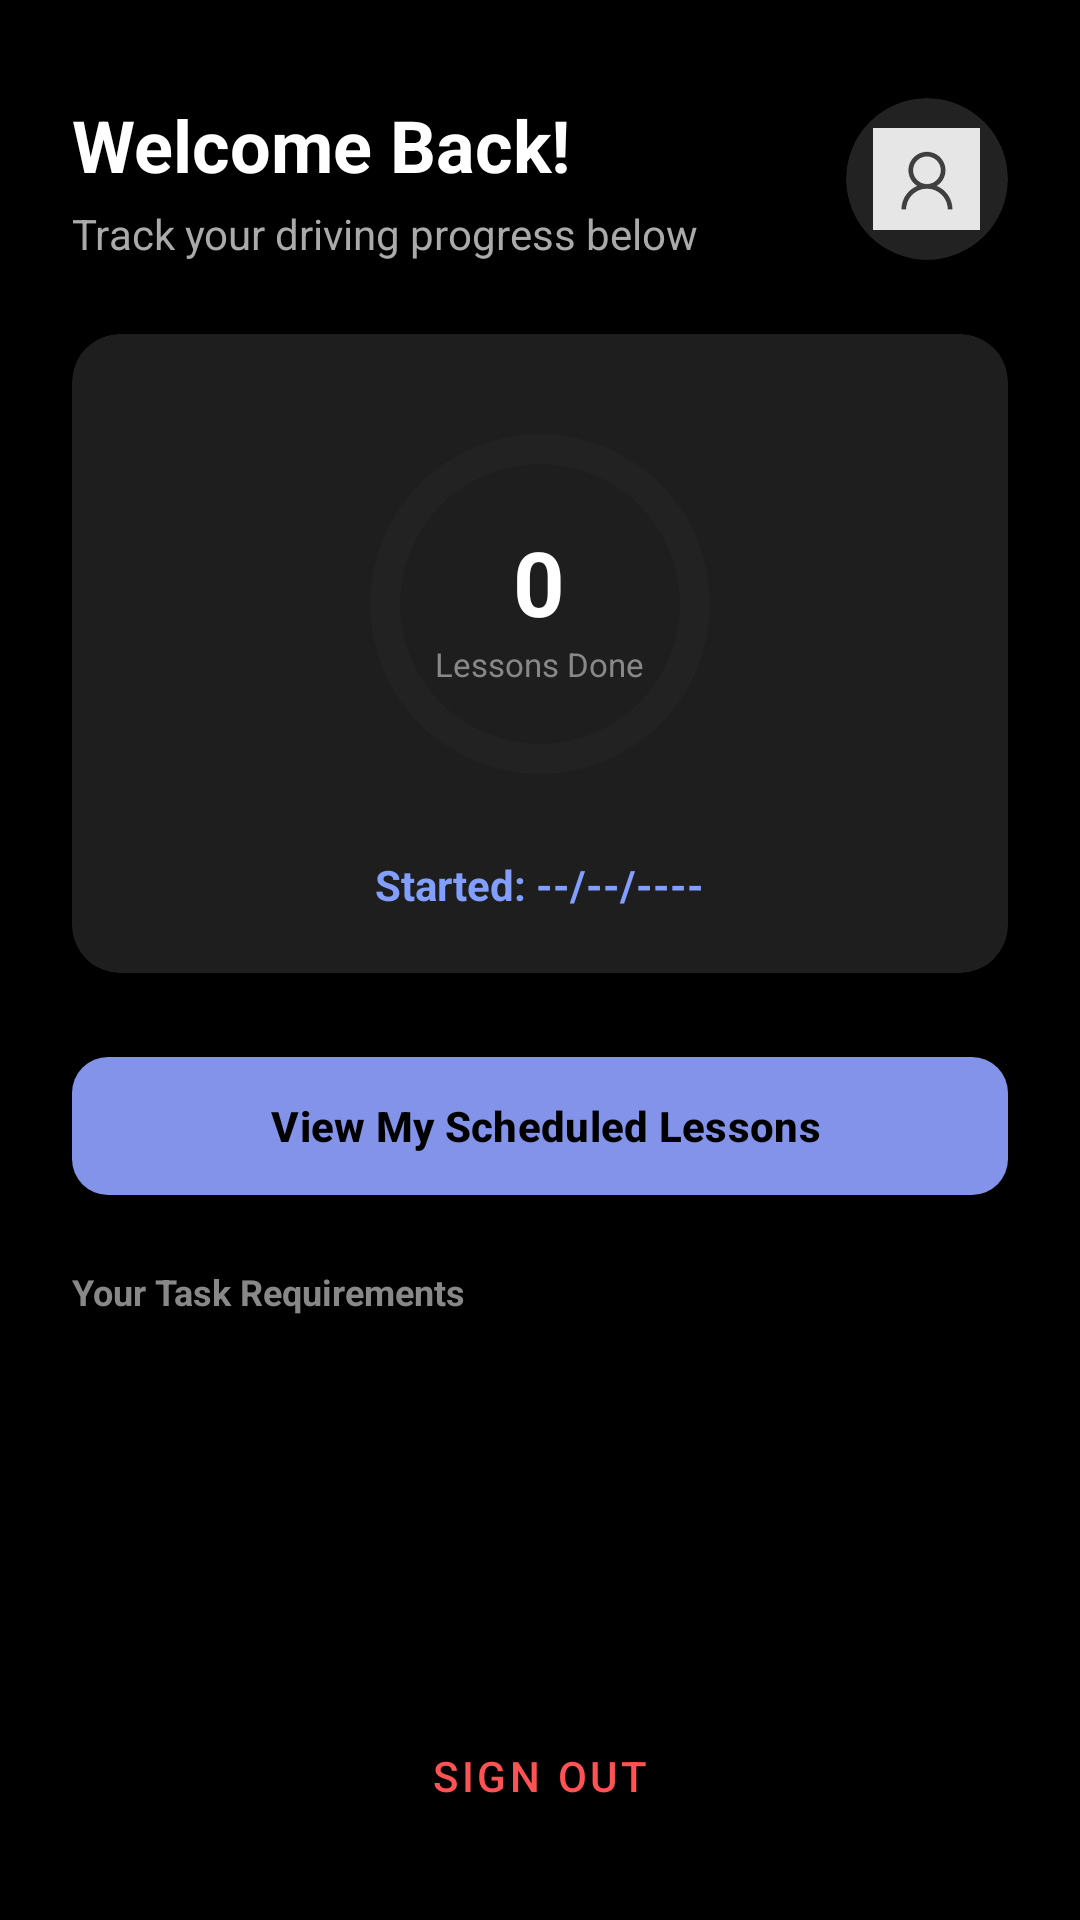

Where icons sit on this 1080 x 1920 app screen, as (x1, y1, x2, y2):
profile: (846, 98, 1008, 260)
